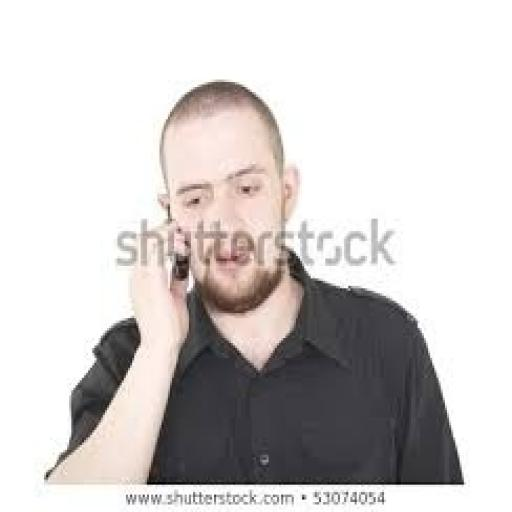calling: (42, 77, 466, 485)
